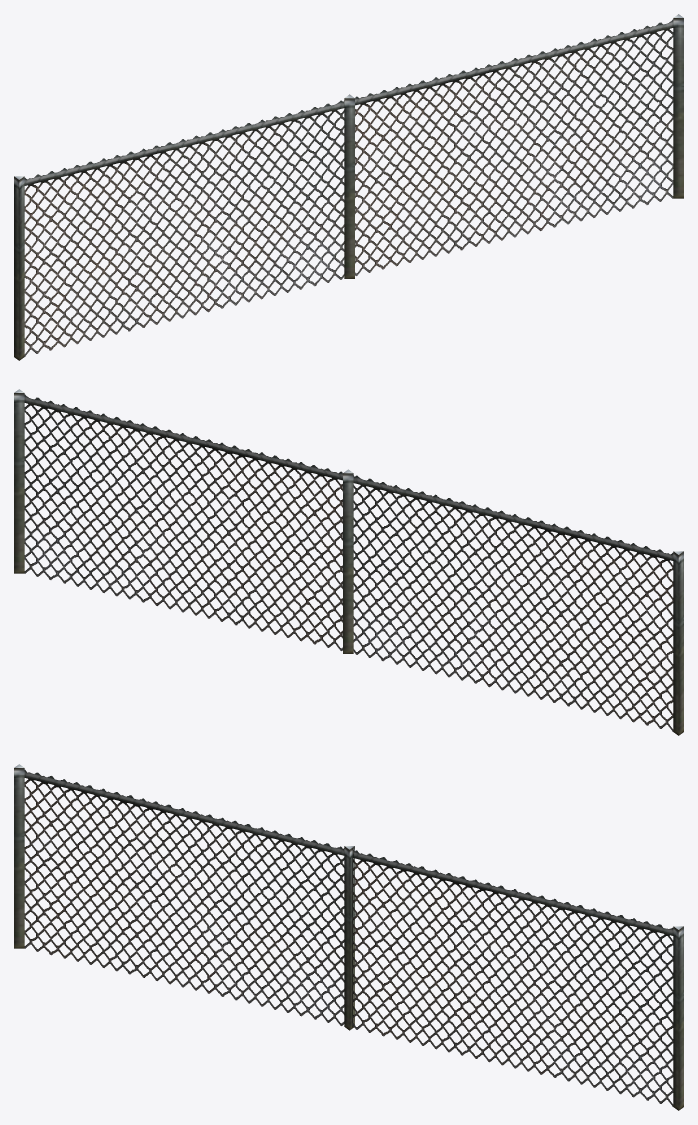
The model's file is fence5m.fbx.
The picture shows the model from 3 angles, top to bottom: view 1: azimuth 30°, elevation 25°; view 2: azimuth 150°, elevation 25°; view 3: azimuth 330°, elevation 25°; orthographic projection.
Parts seen in each view (by area): view 1: mesh_0, mesh_1; view 2: mesh_0, mesh_1; view 3: mesh_0, mesh_1.
Boxes of the visible parts, x1,y1,x2,y2 form: mesh_0: [24, 19, 673, 356]; mesh_1: [14, 14, 683, 360]; mesh_0: [24, 394, 673, 731]; mesh_1: [14, 389, 683, 735]; mesh_0: [24, 770, 673, 1106]; mesh_1: [14, 764, 683, 1110].
Size of the model in its own units: 500 by 130 by 6.93.
Materials: 1 (1 with a texture image).
